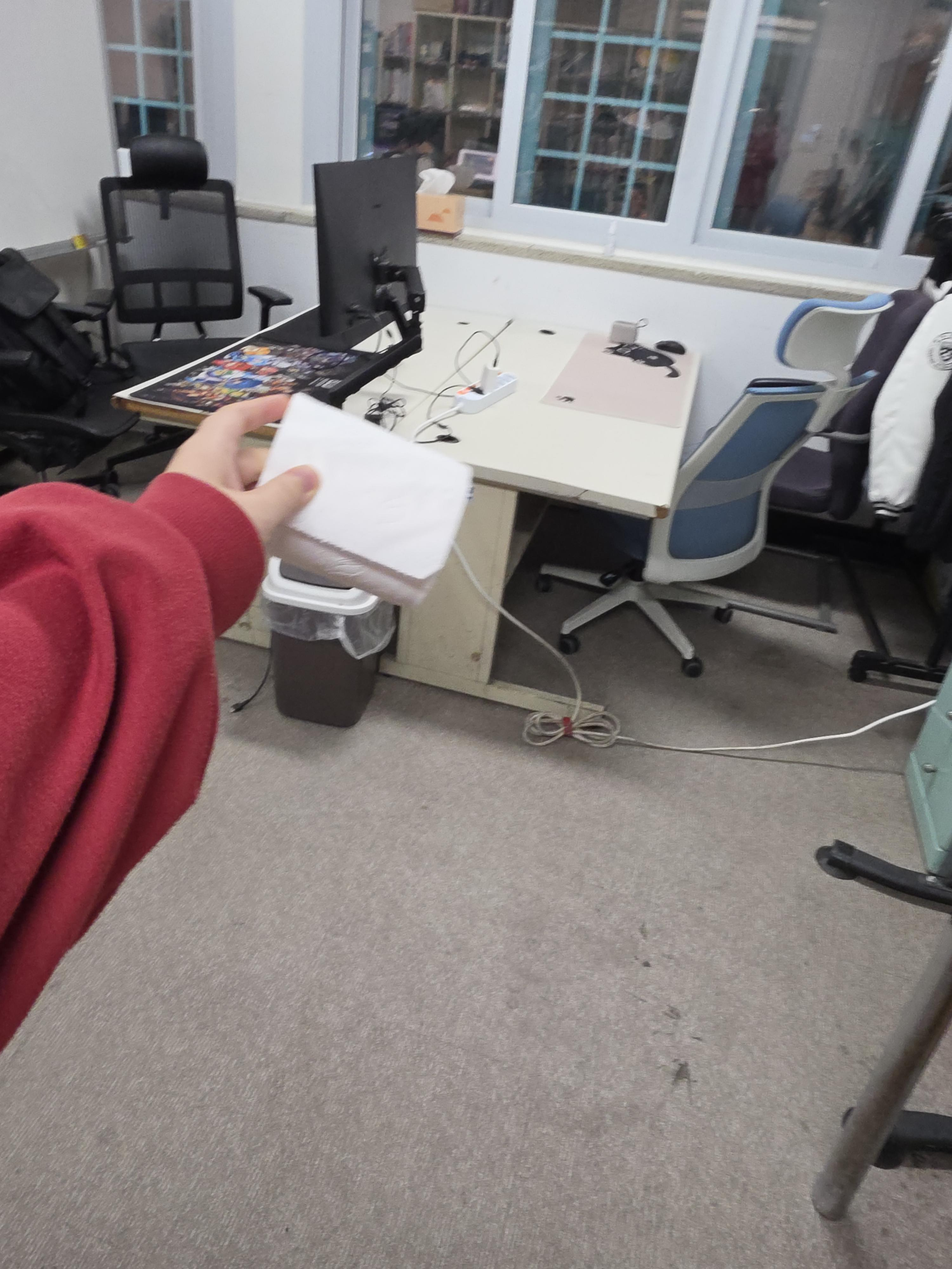tissue: (257, 392, 474, 607), (415, 167, 465, 235)
